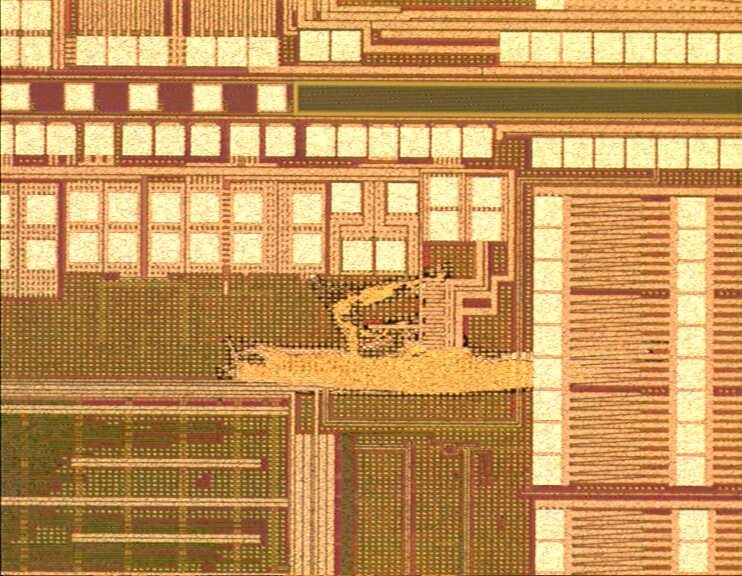BLOCK ETCH: (214, 264, 659, 401)
